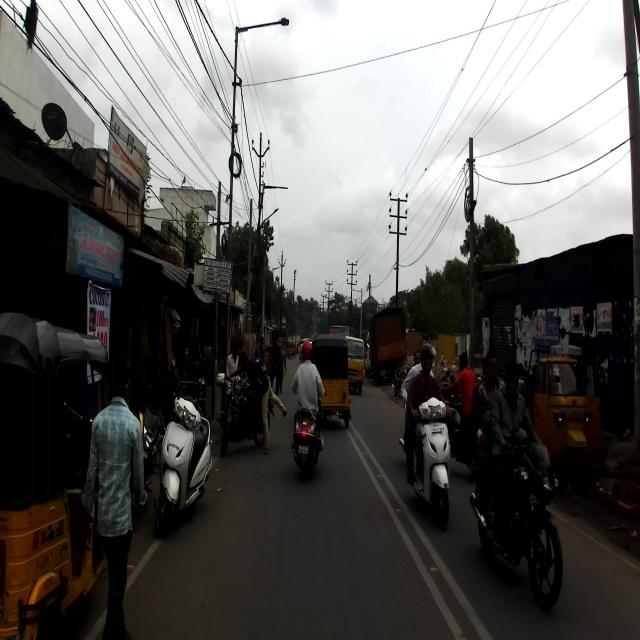autorickshaw: (0, 310, 112, 638), (500, 344, 602, 501)
motorcycle: (468, 428, 564, 612), (219, 371, 276, 459)
scooter: (153, 390, 213, 540), (398, 396, 453, 533), (289, 388, 329, 480)
